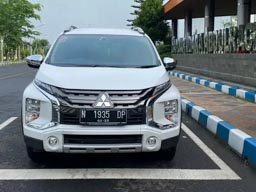plat: (79, 109, 126, 118)
